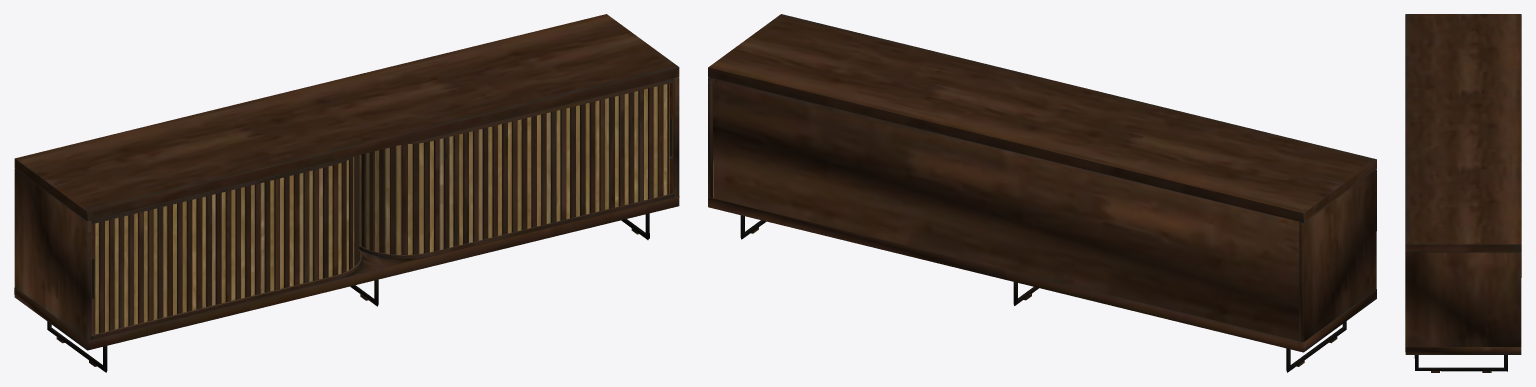
Rendered from modern_wooden_cabinet.glb.
The picture shows the model from 3 angles, left to right: view 1: azimuth 30°, elevation 25°; view 2: azimuth 150°, elevation 25°; view 3: azimuth 270°, elevation 25°; orthographic projection. The views are drawn at different scales.
Visible parts, largest first — view 1: modern_wooden_cabinet_body, modern_wooden_cabinet_door_l; view 2: modern_wooden_cabinet_body; view 3: modern_wooden_cabinet_body.
Part boxes in pixels (box(x1,y1,x2,y2)): modern_wooden_cabinet_body: box(14, 14, 679, 372); modern_wooden_cabinet_door_l: box(91, 82, 673, 334); modern_wooden_cabinet_body: box(708, 14, 1376, 372); modern_wooden_cabinet_body: box(1405, 14, 1521, 372).
Bounding box in the file's own units: 2.44 × 0.6801 × 0.5201.
1 material, 1 textured.
